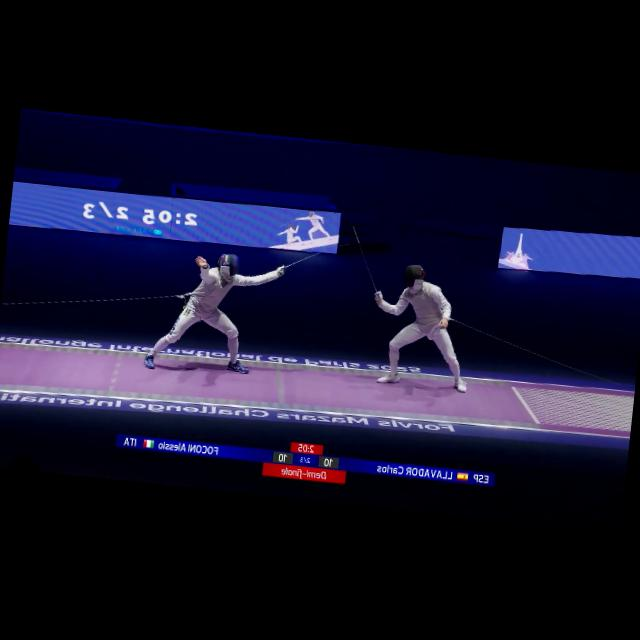blade: (340, 220, 389, 298), (272, 234, 347, 278)
